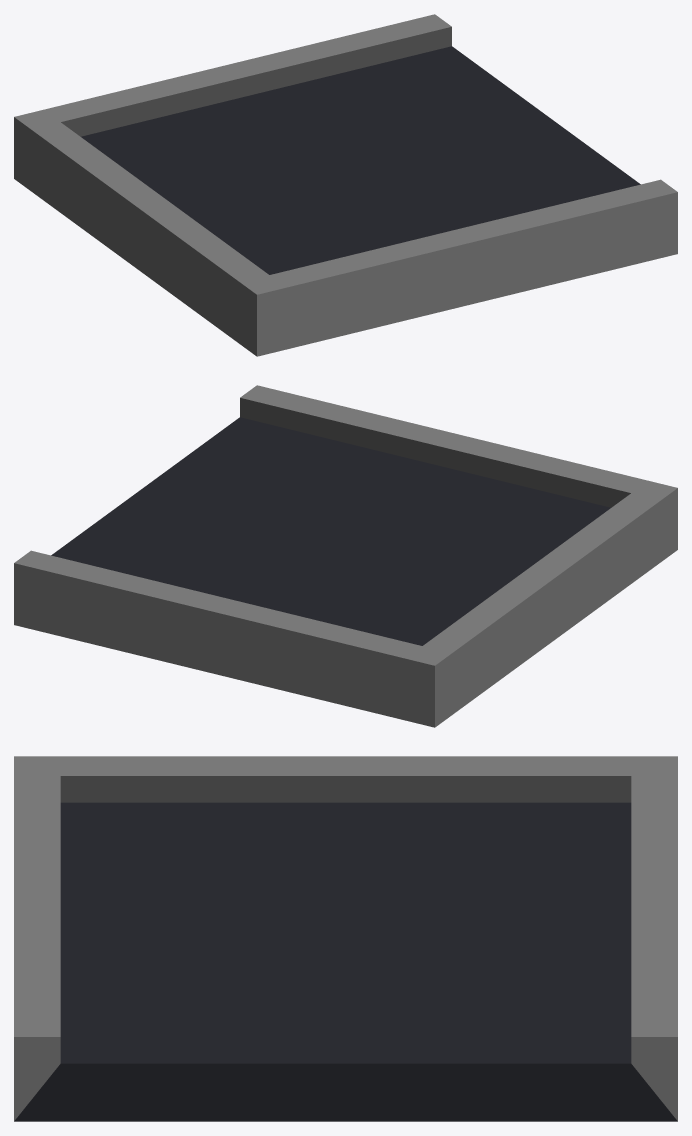
Rendered from SM_FloorStart.FBX.
The picture shows the model from 3 angles, top to bottom: view 1: azimuth 30°, elevation 25°; view 2: azimuth 150°, elevation 25°; view 3: azimuth 270°, elevation 25°; orthographic projection. The views are drawn at different scales.
Parts seen in each view (by area): view 1: SM_FloorStart; view 2: SM_FloorStart; view 3: SM_FloorStart.
Part boxes in pixels (left/top/right/bottom): SM_FloorStart: left=14, top=14, right=677, bottom=356; SM_FloorStart: left=14, top=385, right=677, bottom=727; SM_FloorStart: left=14, top=756, right=677, bottom=1121.
Size of what is drawn, in the model's own units: 500 by 500 by 70.28.
